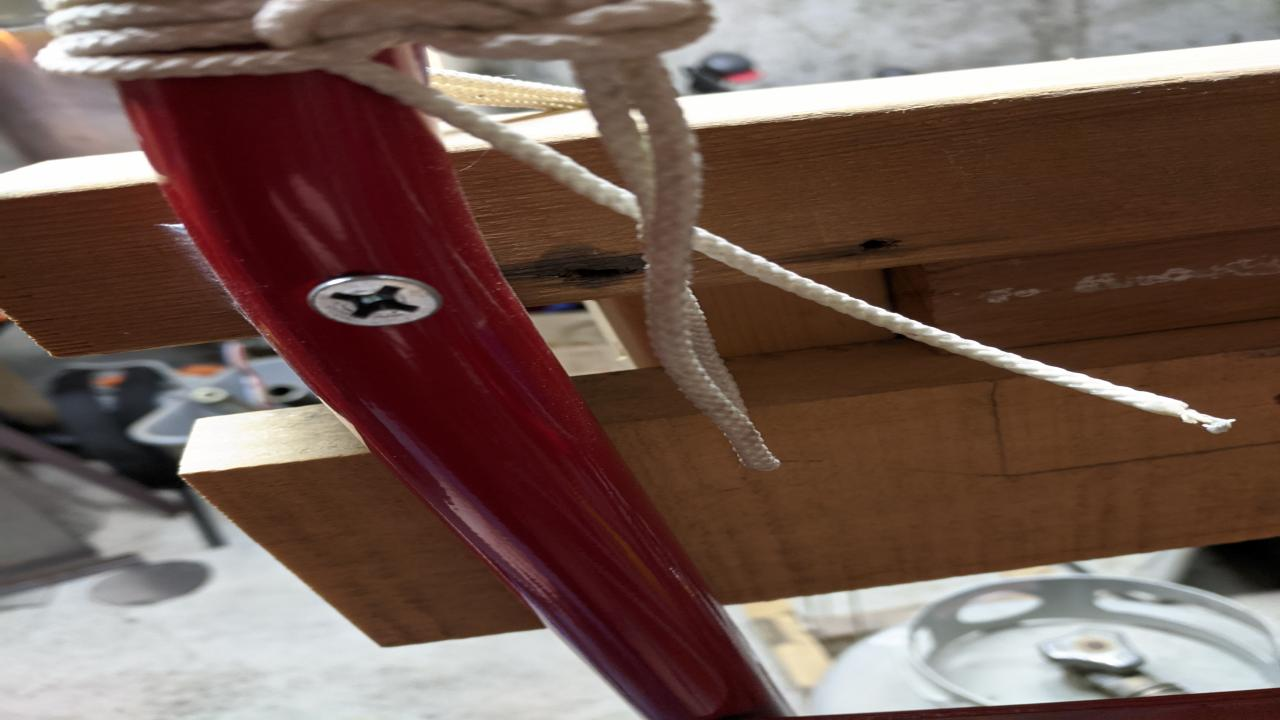CRS: (313, 276, 441, 327)
